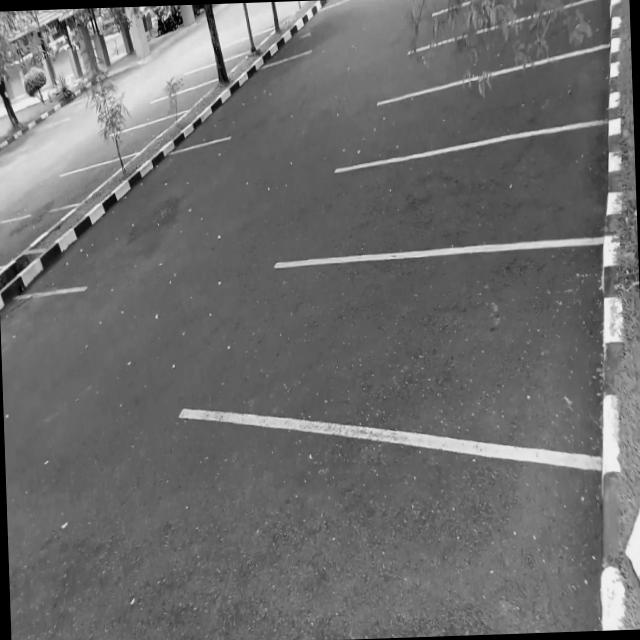free: (261, 239, 608, 460), (282, 124, 606, 256), (9, 138, 240, 294), (384, 53, 613, 154), (160, 57, 316, 152), (255, 0, 369, 61), (90, 121, 170, 164), (46, 165, 114, 211), (0, 209, 58, 260), (294, 4, 350, 56), (146, 84, 214, 119), (218, 31, 269, 56)
